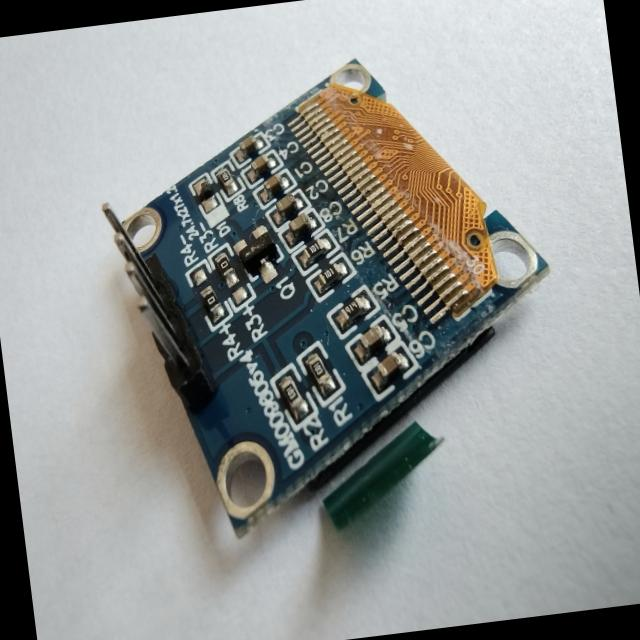oled: (80, 17, 584, 582)
